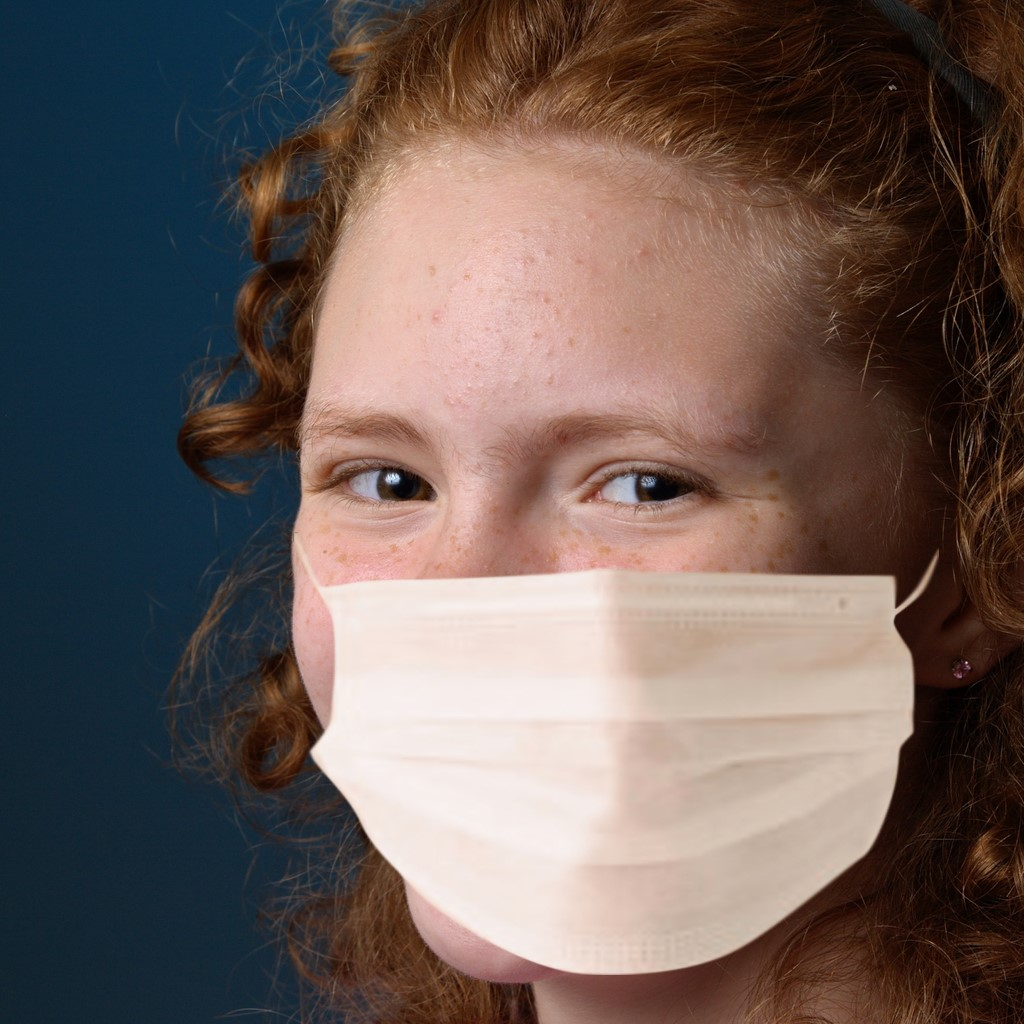con_mascara: (291, 120, 958, 970)
